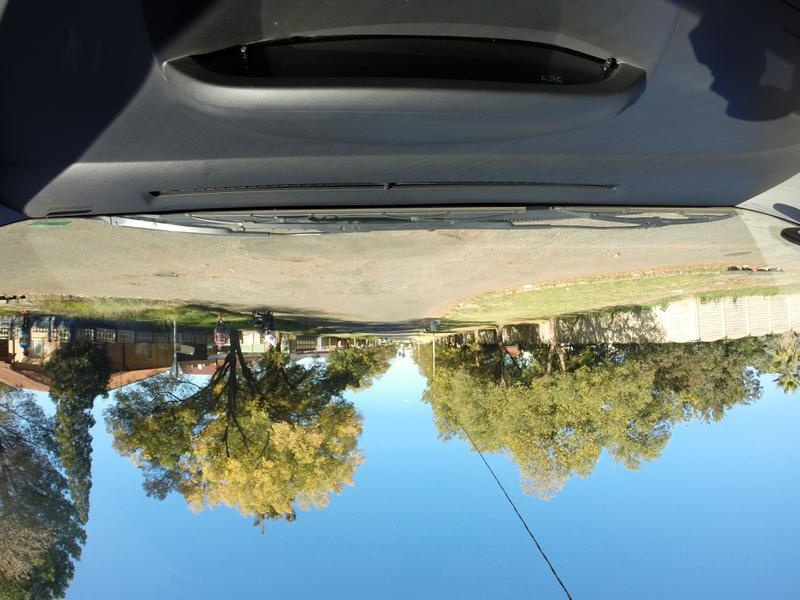pothole: (432, 230, 483, 250), (262, 253, 317, 261), (153, 269, 185, 279), (128, 280, 142, 287)
